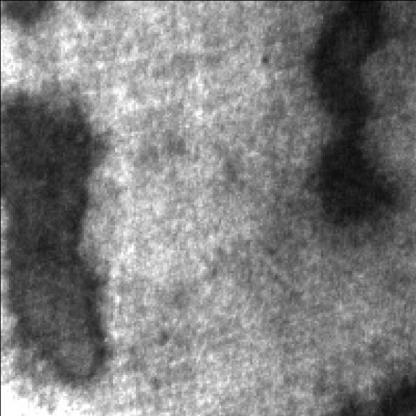patches: (0, 86, 106, 380), (302, 0, 393, 121), (306, 125, 393, 225), (349, 370, 414, 412), (0, 0, 56, 31)
